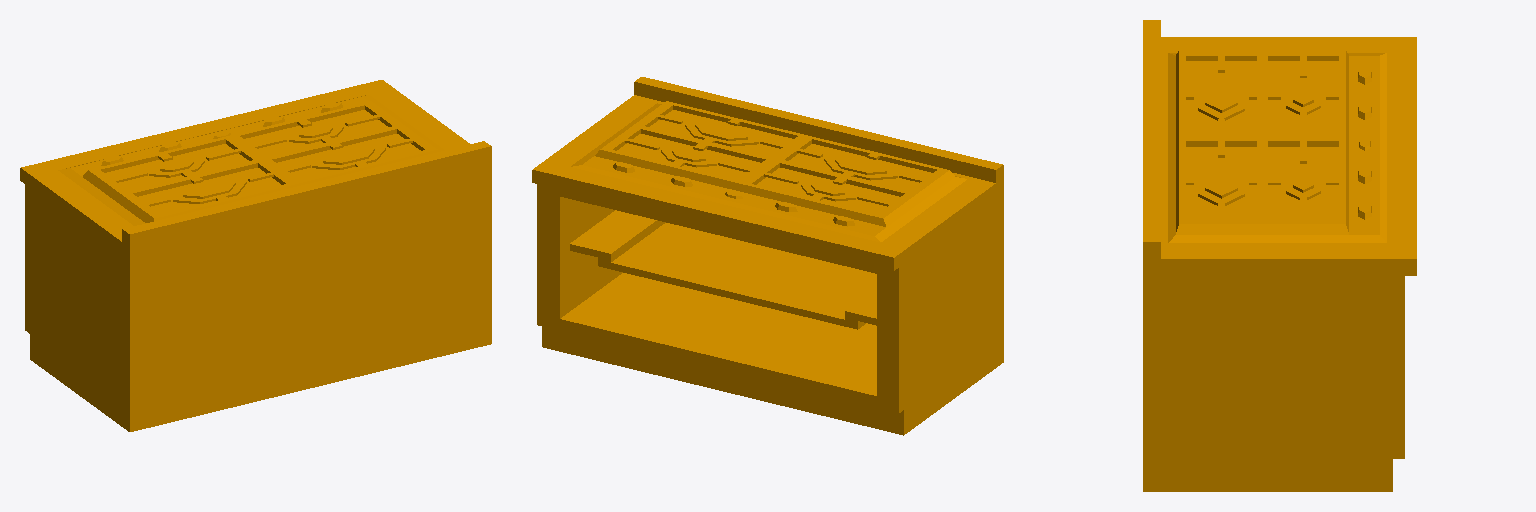
The robot description file, URDF, robot "kitchenstove":
<?xml version="1.0"?>
<robot name="kitchenstove">
  <link name="stove">
    <inertial>
        <origin rpy="0 0 0" xyz="0 0 0"/>
        <mass value="30.0"/>
        <inertia ixx="2e-2" ixy="0" ixz="0" iyy="2e-2" iyz="0" izz="2e-2"/>
    </inertial>
    <visual>
      <geometry>
        <mesh filename="kitchenstove_visual.obj"/>
      </geometry>
    </visual>
    <collision>
      <geometry>
        <mesh filename="kitchenstove_collision.obj"/>
      </geometry>
    </collision>
  </link>
</robot>

--- Facts derived from the render (not from the file) ---
The picture shows the robot from 3 angles, left to right: view 1: azimuth 30°, elevation 25°; view 2: azimuth 150°, elevation 25°; view 3: azimuth 270°, elevation 25°; orthographic projection.
Robot: kitchenstove — 1 links, 0 joints (none); root link stove; default pose: all joints at 0.
Links seen in each view (by area): view 1: stove; view 2: stove; view 3: stove.
Link boxes in pixels (x1,y1,x2,y2): stove: [20, 80, 491, 431]; stove: [532, 77, 1003, 435]; stove: [1143, 20, 1416, 491].
Size in the robot's own frame: 2.75 by 1.44 by 1.44 metres.
Meshes: 1 distinct files referenced, 1 mesh visuals loaded (1 OBJ).
